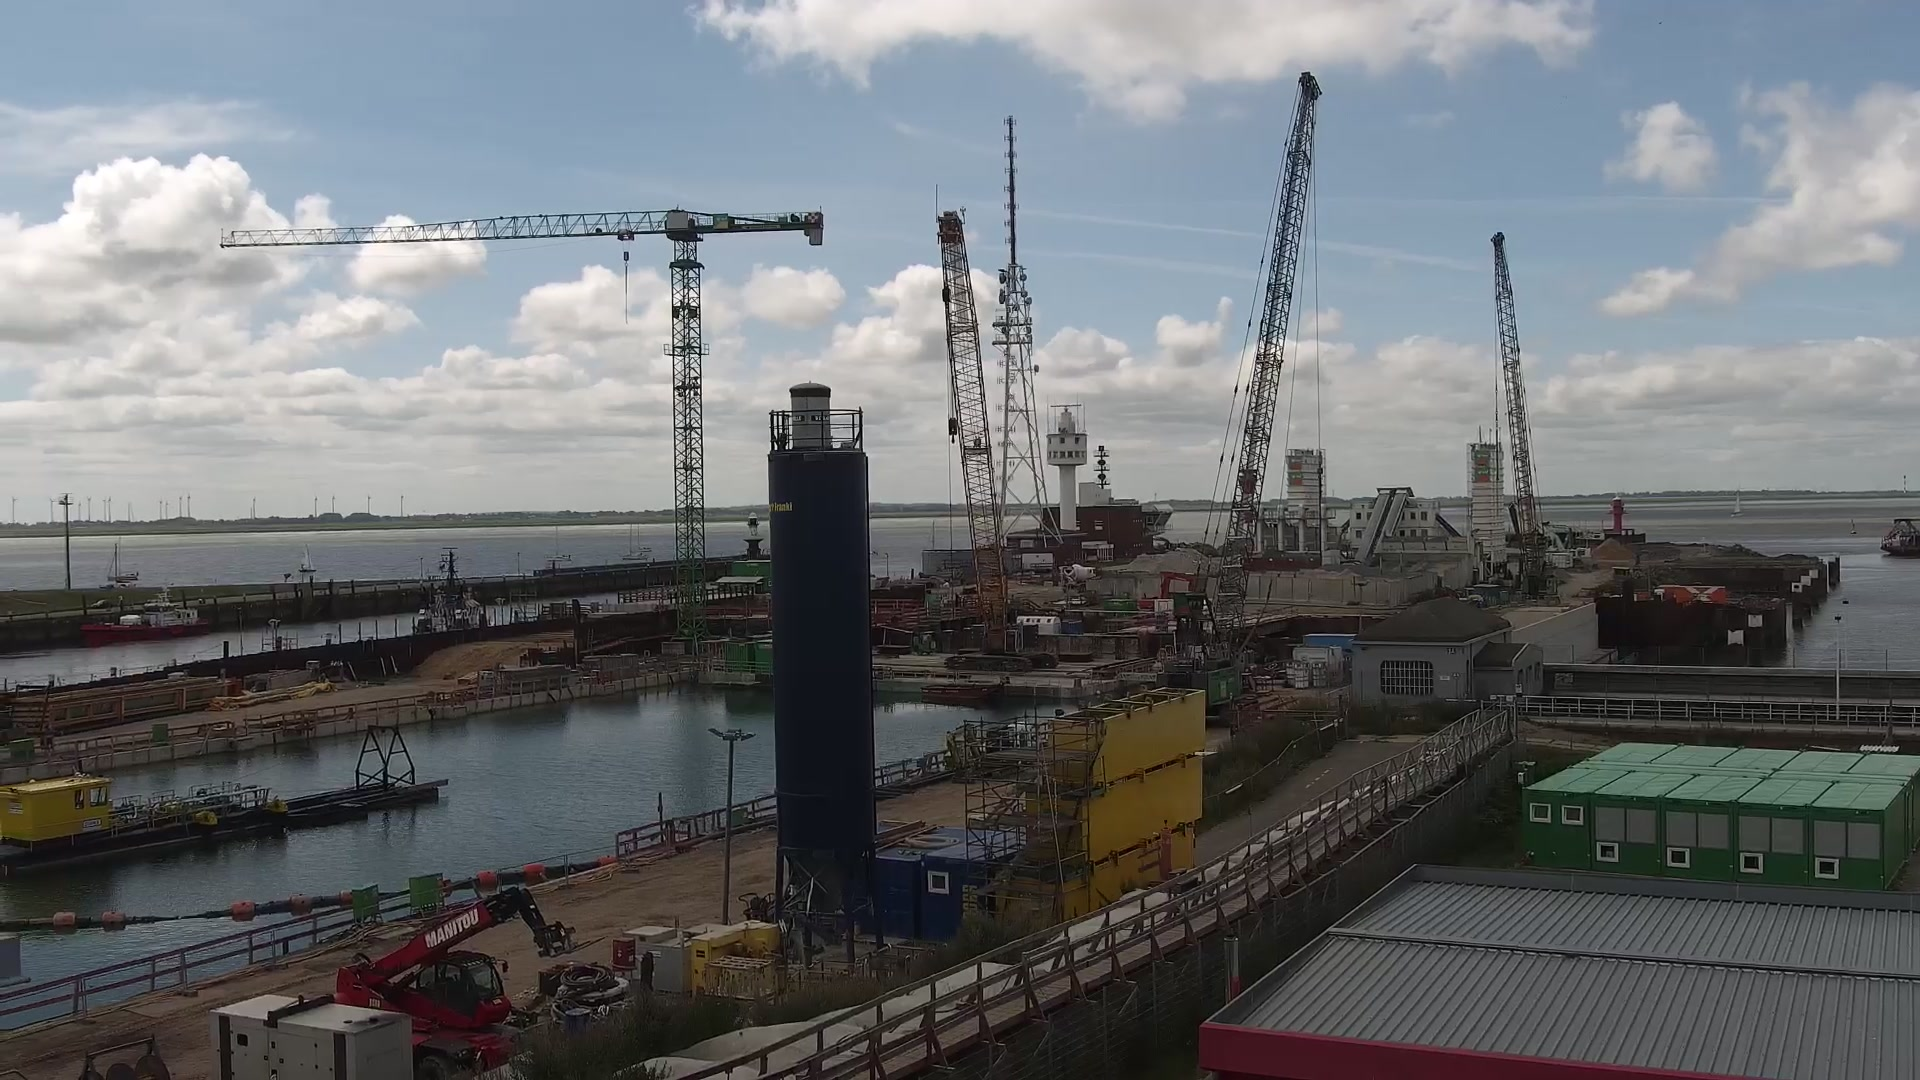land: (320, 886, 640, 1079), (90, 599, 112, 609)
sea: (76, 576, 211, 647), (407, 549, 492, 640), (1880, 516, 1919, 556), (105, 534, 138, 580), (920, 683, 1004, 699), (620, 522, 647, 560), (546, 524, 572, 560), (634, 520, 651, 553), (298, 542, 316, 571), (1729, 489, 1745, 518)
